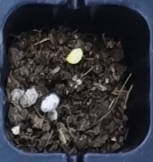chilli seed: (65, 46, 83, 64)
